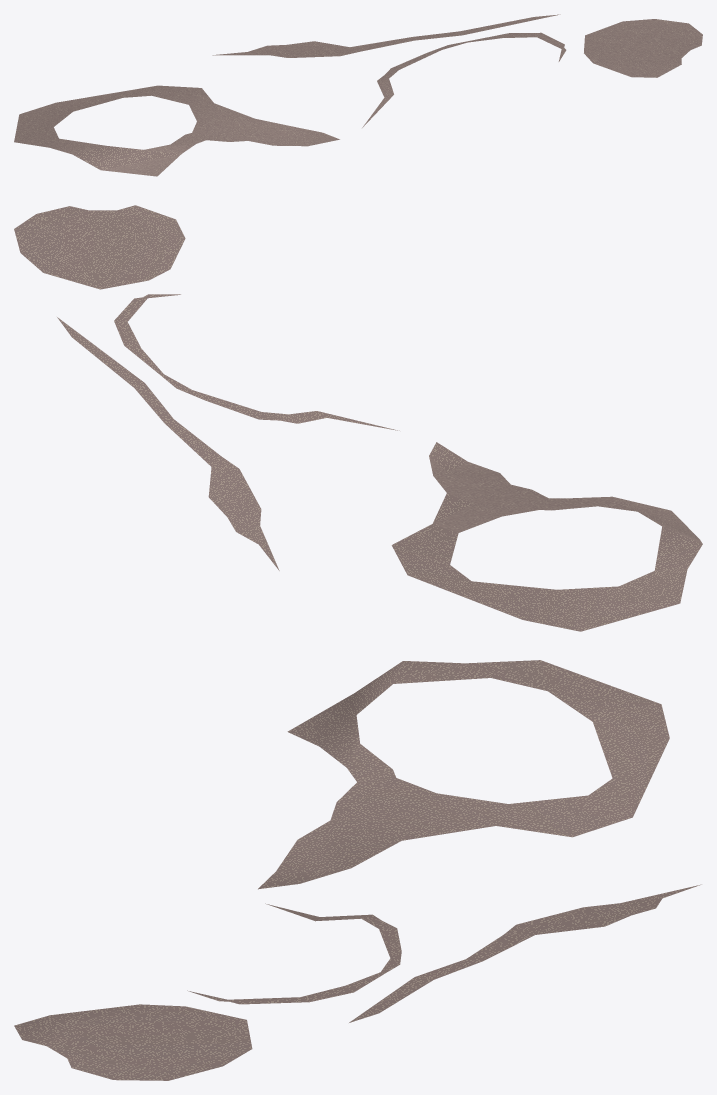
Rendered from kd_stage_136282_2_9_bounded.glb.
3 renders of one model, top to bottom at view 1: azimuth 30°, elevation 25°; view 2: azimuth 150°, elevation 25°; view 3: azimuth 270°, elevation 25°, orthographic. The views are drawn at different scales.
Visible parts, largest first — view 1: kd_stage_136282_2_9_bounded; view 2: kd_stage_136282_2_9_bounded; view 3: kd_stage_136282_2_9_bounded.
Part boxes in pixels (left/top/right/bottom): kd_stage_136282_2_9_bounded: left=14, top=14, right=702, bottom=176; kd_stage_136282_2_9_bounded: left=14, top=205, right=702, bottom=631; kd_stage_136282_2_9_bounded: left=14, top=660, right=701, bottom=1080.
Size of the model in its own units: 60.26 by 5.88 by 33.9.
1 material, 1 textured.
